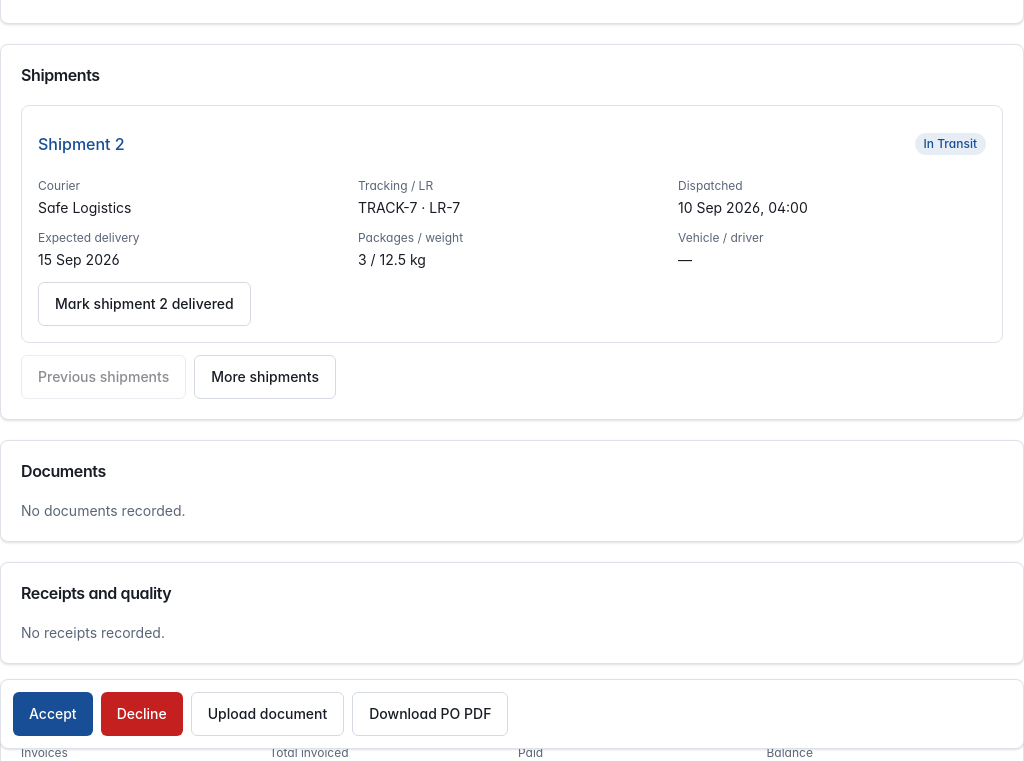
Test: vendor order boundary and navigation › uses the embedded first pages and fetches older rows only when requested
(page scrolled)
Expected: the link "Shipment 2" is shown, x1=38 y1=134 x2=125 y2=154
Click the button "More shipments". click: (265, 377)
box: x1=194 y1=355 x2=336 y2=399
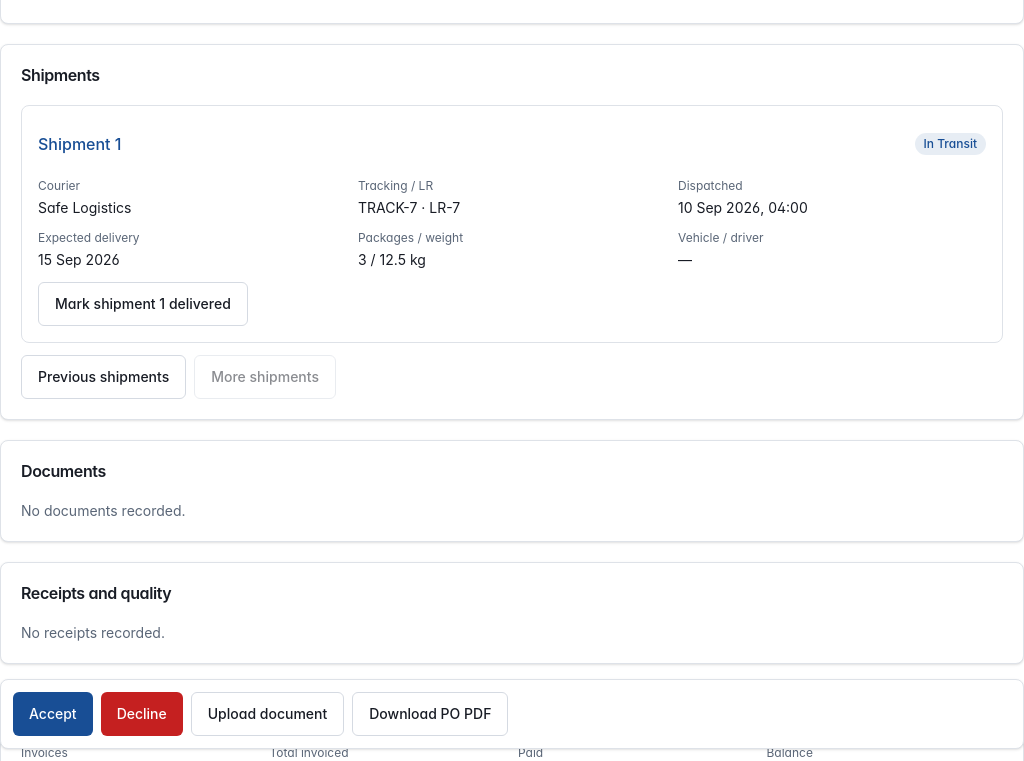
Result: the link "Shipment 1" is shown at x1=38 y1=134 x2=122 y2=154
